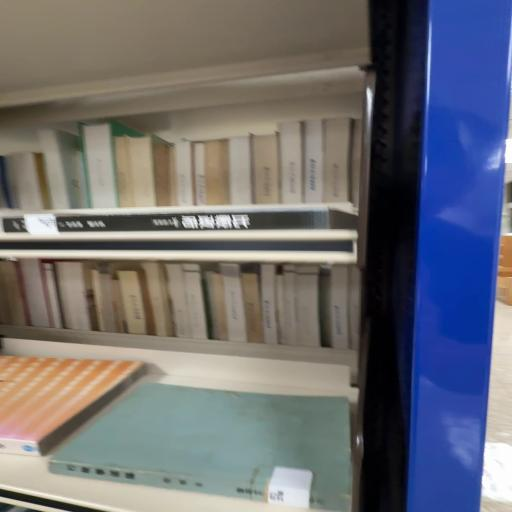flat: (49, 384, 352, 512), (2, 209, 358, 236)
